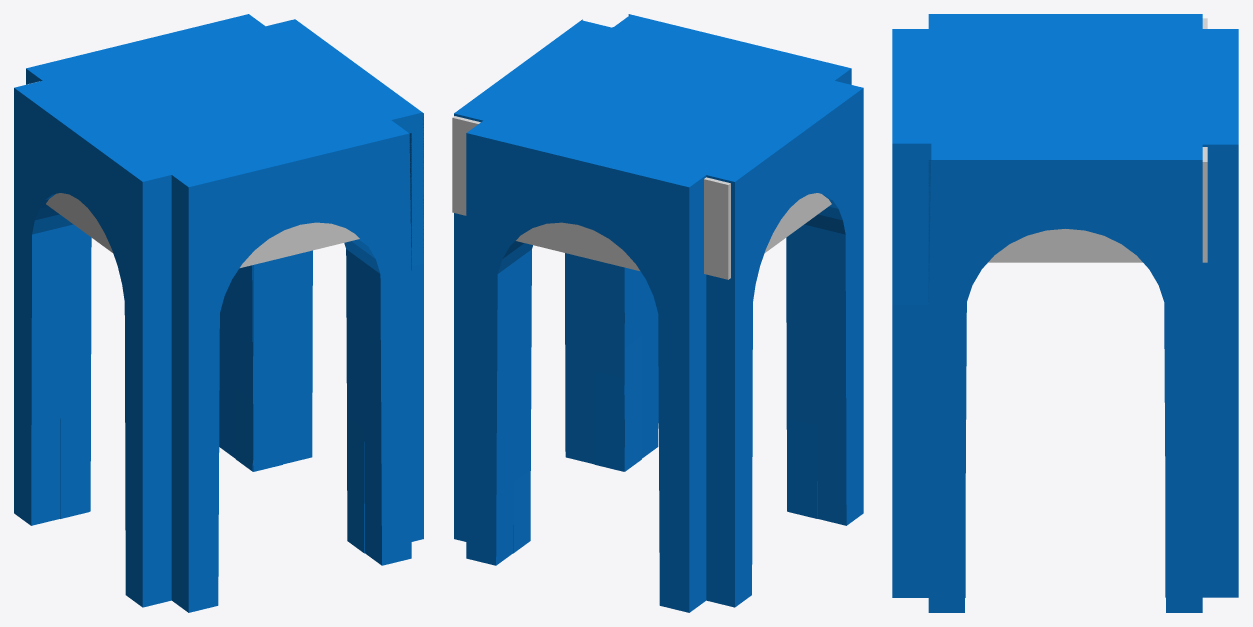
The model's file is Arch.gltf.
3 views of the same model, side by side, from view 1: azimuth 30°, elevation 25°; view 2: azimuth 150°, elevation 25°; view 3: azimuth 270°, elevation 25° (orthographic). The views are drawn at different scales.
Visible parts, largest first — view 1: 円錐, COL; view 2: 円錐, COL; view 3: 円錐, COL.
Boxes of the visible parts, box(x1,y1,x2,y2) form: 円錐: box(14, 14, 423, 612); COL: box(16, 20, 359, 267); 円錐: box(454, 14, 863, 612); COL: box(452, 116, 831, 279); 円錐: box(892, 14, 1238, 612); COL: box(988, 18, 1207, 262).
Bounding box in the file's own units: 19.7 × 28.67 × 19.73.
